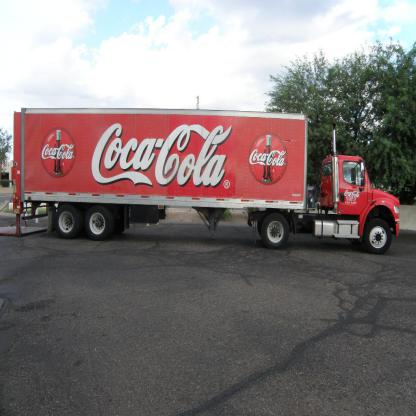Truck: (11, 96, 400, 254)
